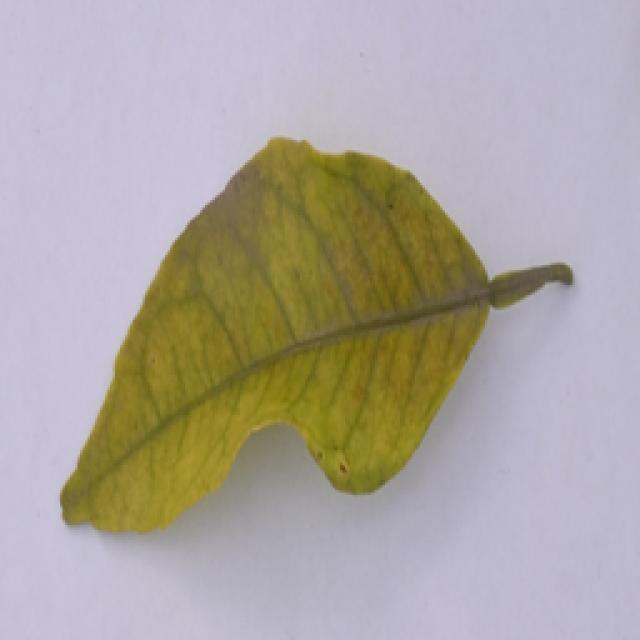greening: (53, 134, 592, 555)
